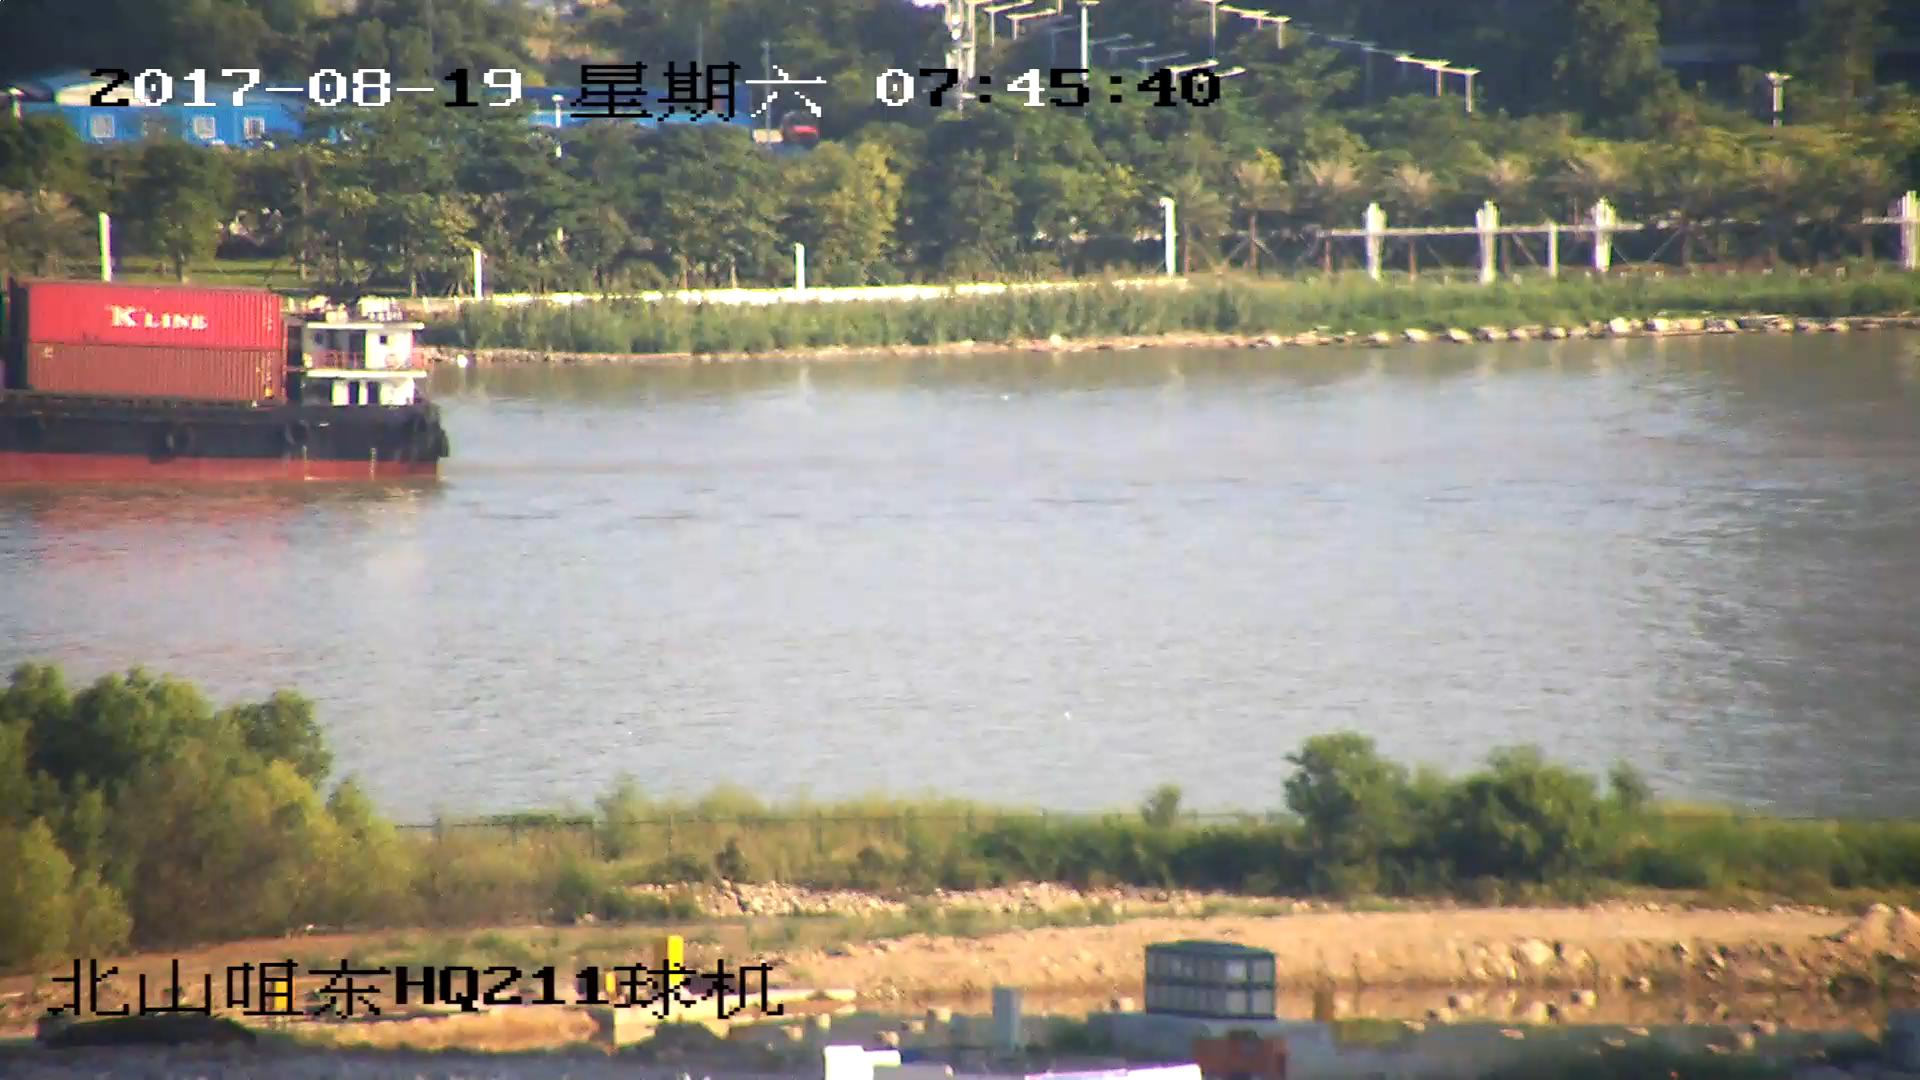container ship: (1, 276, 445, 484)
